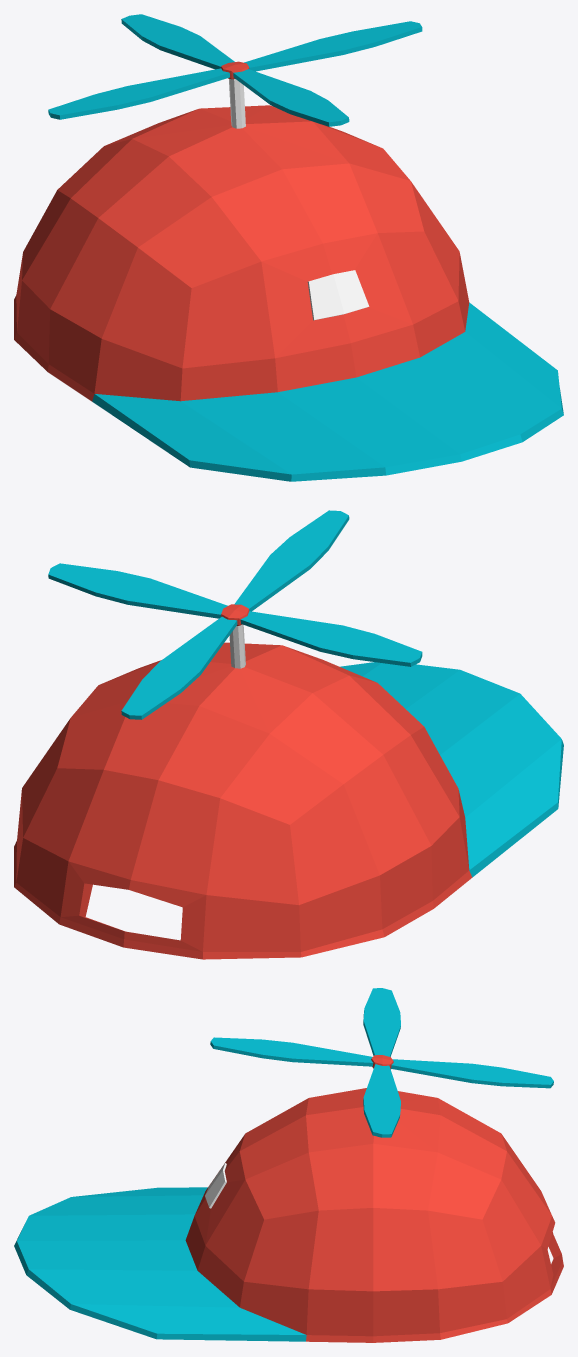
Rendered from propeller.glb.
3 renders of one model, top to bottom at view 1: azimuth 30°, elevation 25°; view 2: azimuth 150°, elevation 25°; view 3: azimuth 270°, elevation 25°, orthographic. The views are drawn at different scales.
Parts seen in each view (by area): view 1: node-0; view 2: node-0; view 3: node-0.
Boxes of the visible parts, <box> form: node-0: <box>14,14,563,481</box>; node-0: <box>14,510,563,959</box>; node-0: <box>14,988,563,1342</box>.
Bounding box in the file's own units: 6.77 × 4.64 × 10.27.
